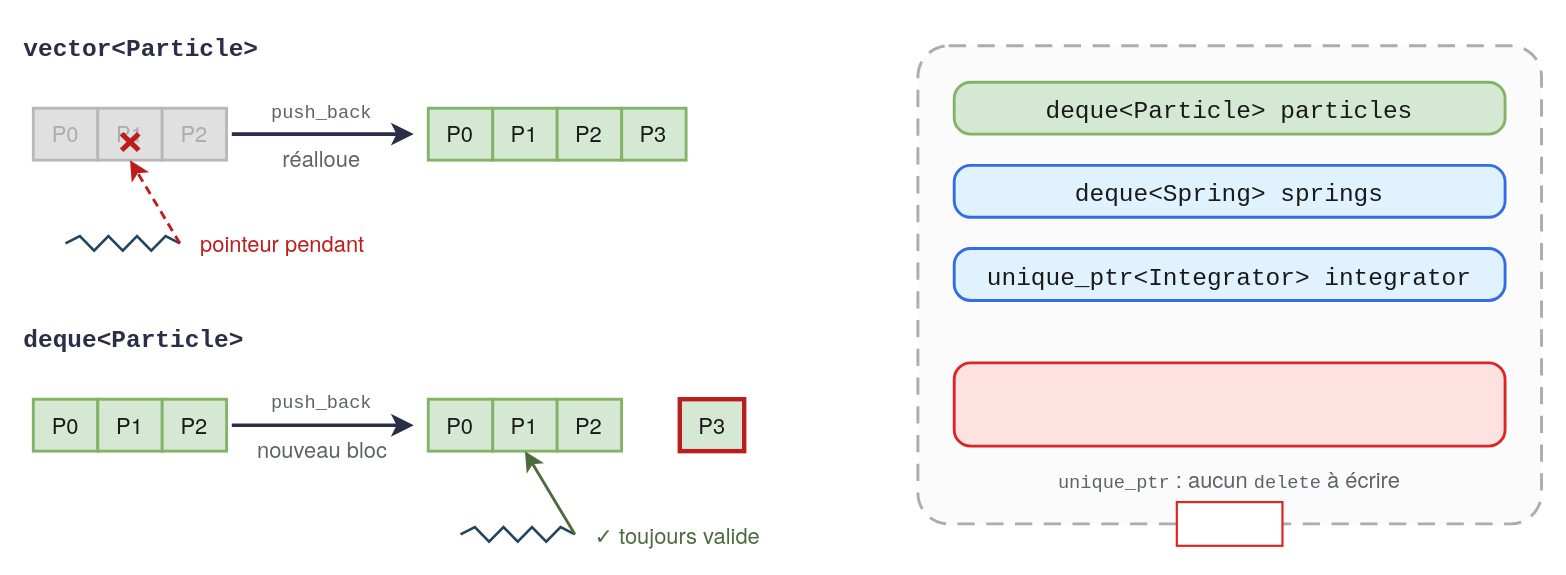
Some shapes in this 1566 by 575 pixel diagram are drawn without their labels. The shapes that lost their labels are listed below. From the top down, each one's centre as x and y in pixels, then its label:
(x=1229, y=404): World(const World&) = delete copier un monde casserait tous les liens
(x=1229, y=523): WORLD
